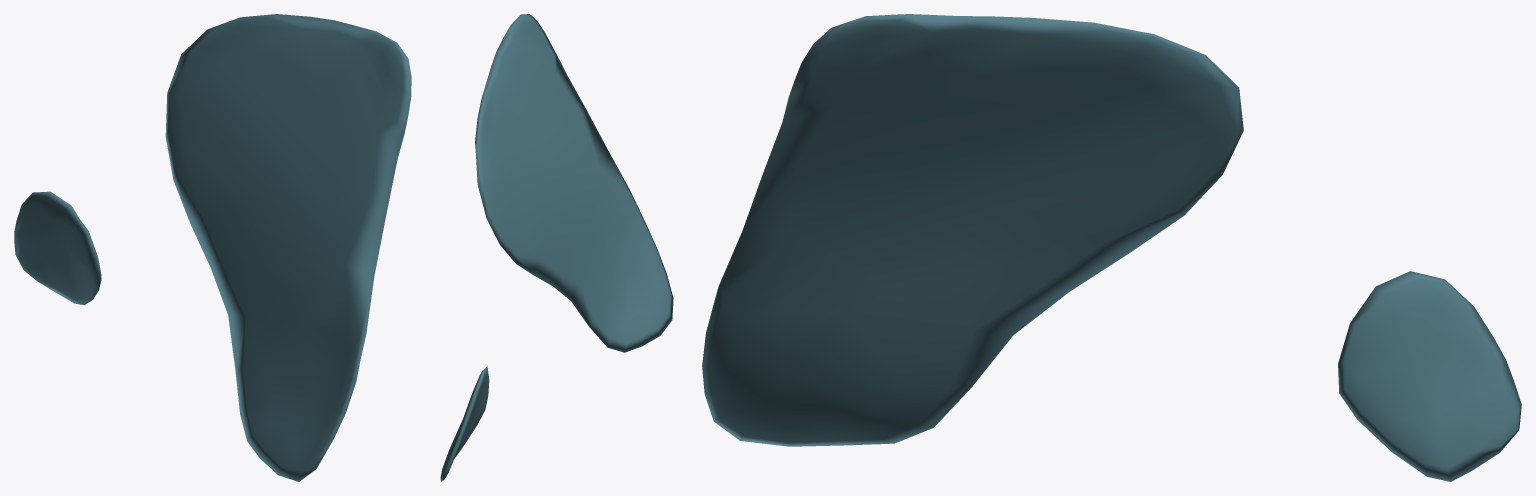
The model's file is Rectus_femoris_iliac_insertion_left.glb.
3 renders of one model, left to right at view 1: azimuth 30°, elevation 25°; view 2: azimuth 150°, elevation 25°; view 3: azimuth 270°, elevation 25°, orthographic. The views are drawn at different scales.
Visible parts, largest first — view 1: Rectus_femoris_muscle-Iliac_insertion.l_Generated_Mesh_From_; view 2: Rectus_femoris_muscle-Iliac_insertion.l_Generated_Mesh_From_; view 3: Rectus_femoris_muscle-Iliac_insertion.l_Generated_Mesh_From_.
Part boxes in pixels (x1,y1,x2,y2): Rectus_femoris_muscle-Iliac_insertion.l_Generated_Mesh_From_: (14, 14, 411, 481); Rectus_femoris_muscle-Iliac_insertion.l_Generated_Mesh_From_: (440, 14, 673, 481); Rectus_femoris_muscle-Iliac_insertion.l_Generated_Mesh_From_: (702, 14, 1521, 481).
Size of the model in its own units: 0.0108 by 0.0252 by 0.0345.
